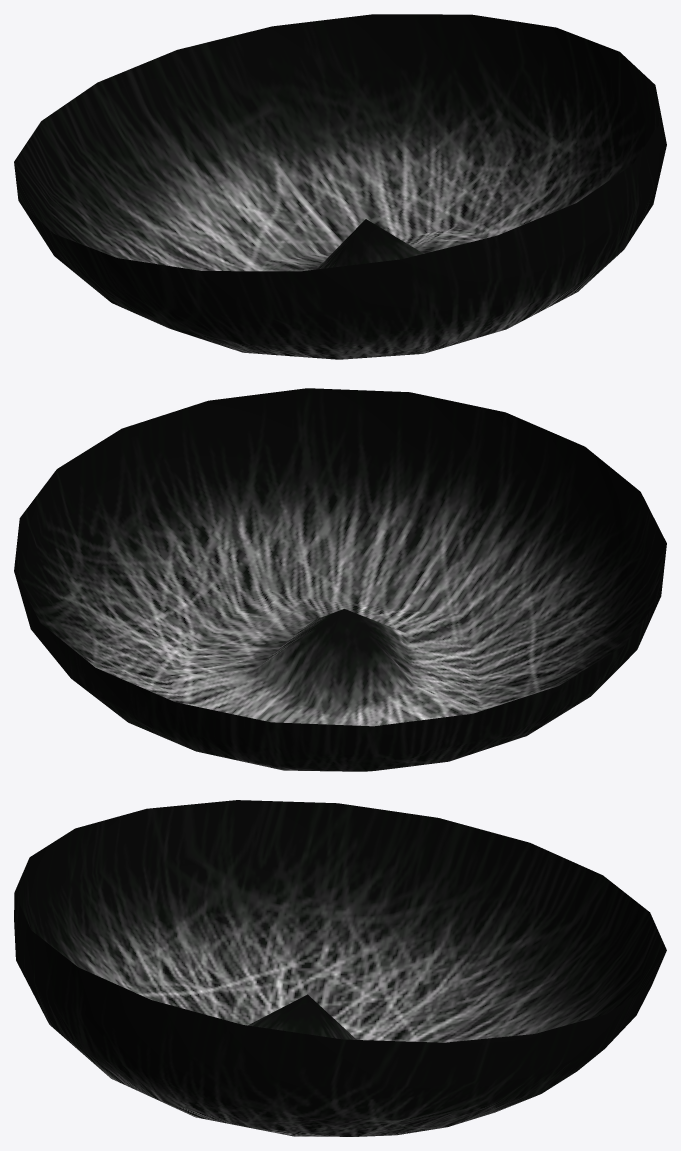
Rendered from MIRKWOOD_SB_998.fbx.
3 views of the same model, one above another, from view 1: azimuth 30°, elevation 25°; view 2: azimuth 150°, elevation 25°; view 3: azimuth 270°, elevation 25° (orthographic).
Parts seen in each view (by area): view 1: MIRKWOOD_SB_998; view 2: MIRKWOOD_SB_998; view 3: MIRKWOOD_SB_998.
Part boxes in pixels (x1=…): MIRKWOOD_SB_998: x1=14, y1=14, x2=666, y2=359; MIRKWOOD_SB_998: x1=14, y1=388, x2=666, y2=771; MIRKWOOD_SB_998: x1=14, y1=800, x2=666, y2=1136.
Size of the model in its own units: 178495 by 58704 by 177578.
Materials: 1 (1 with a texture image).
